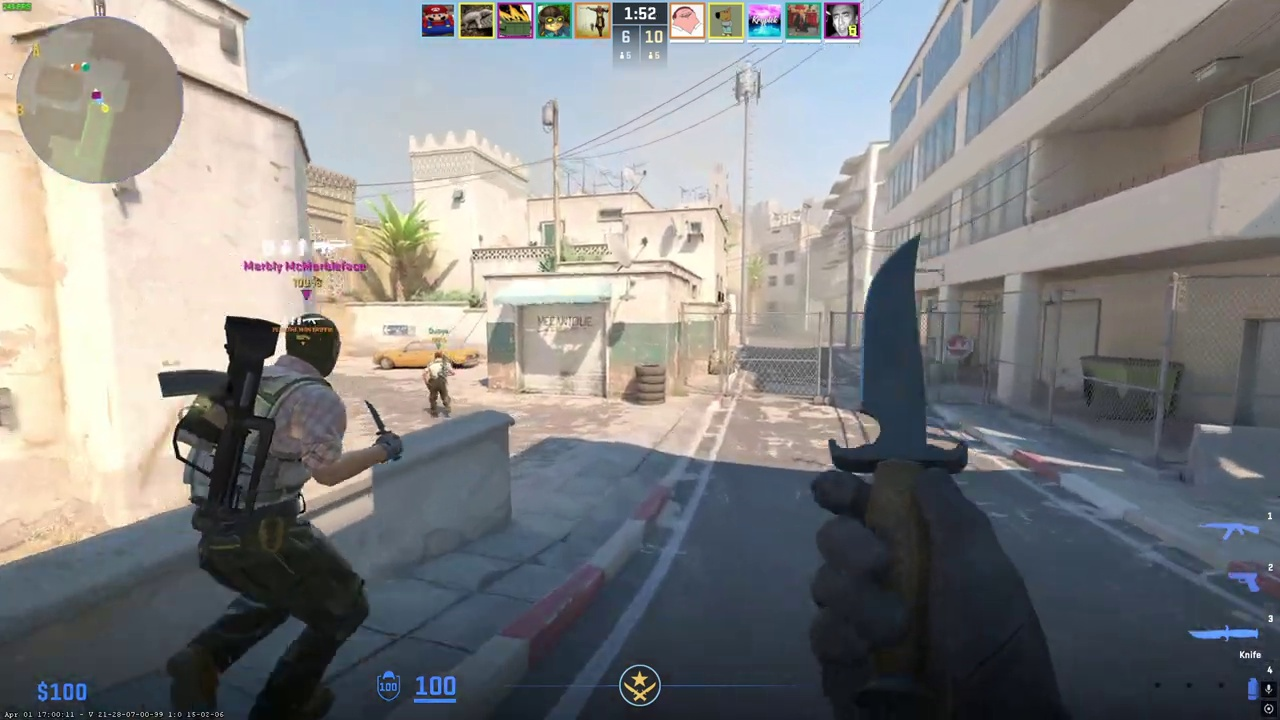Terrorist: (172, 313, 381, 720), (426, 352, 452, 418)
